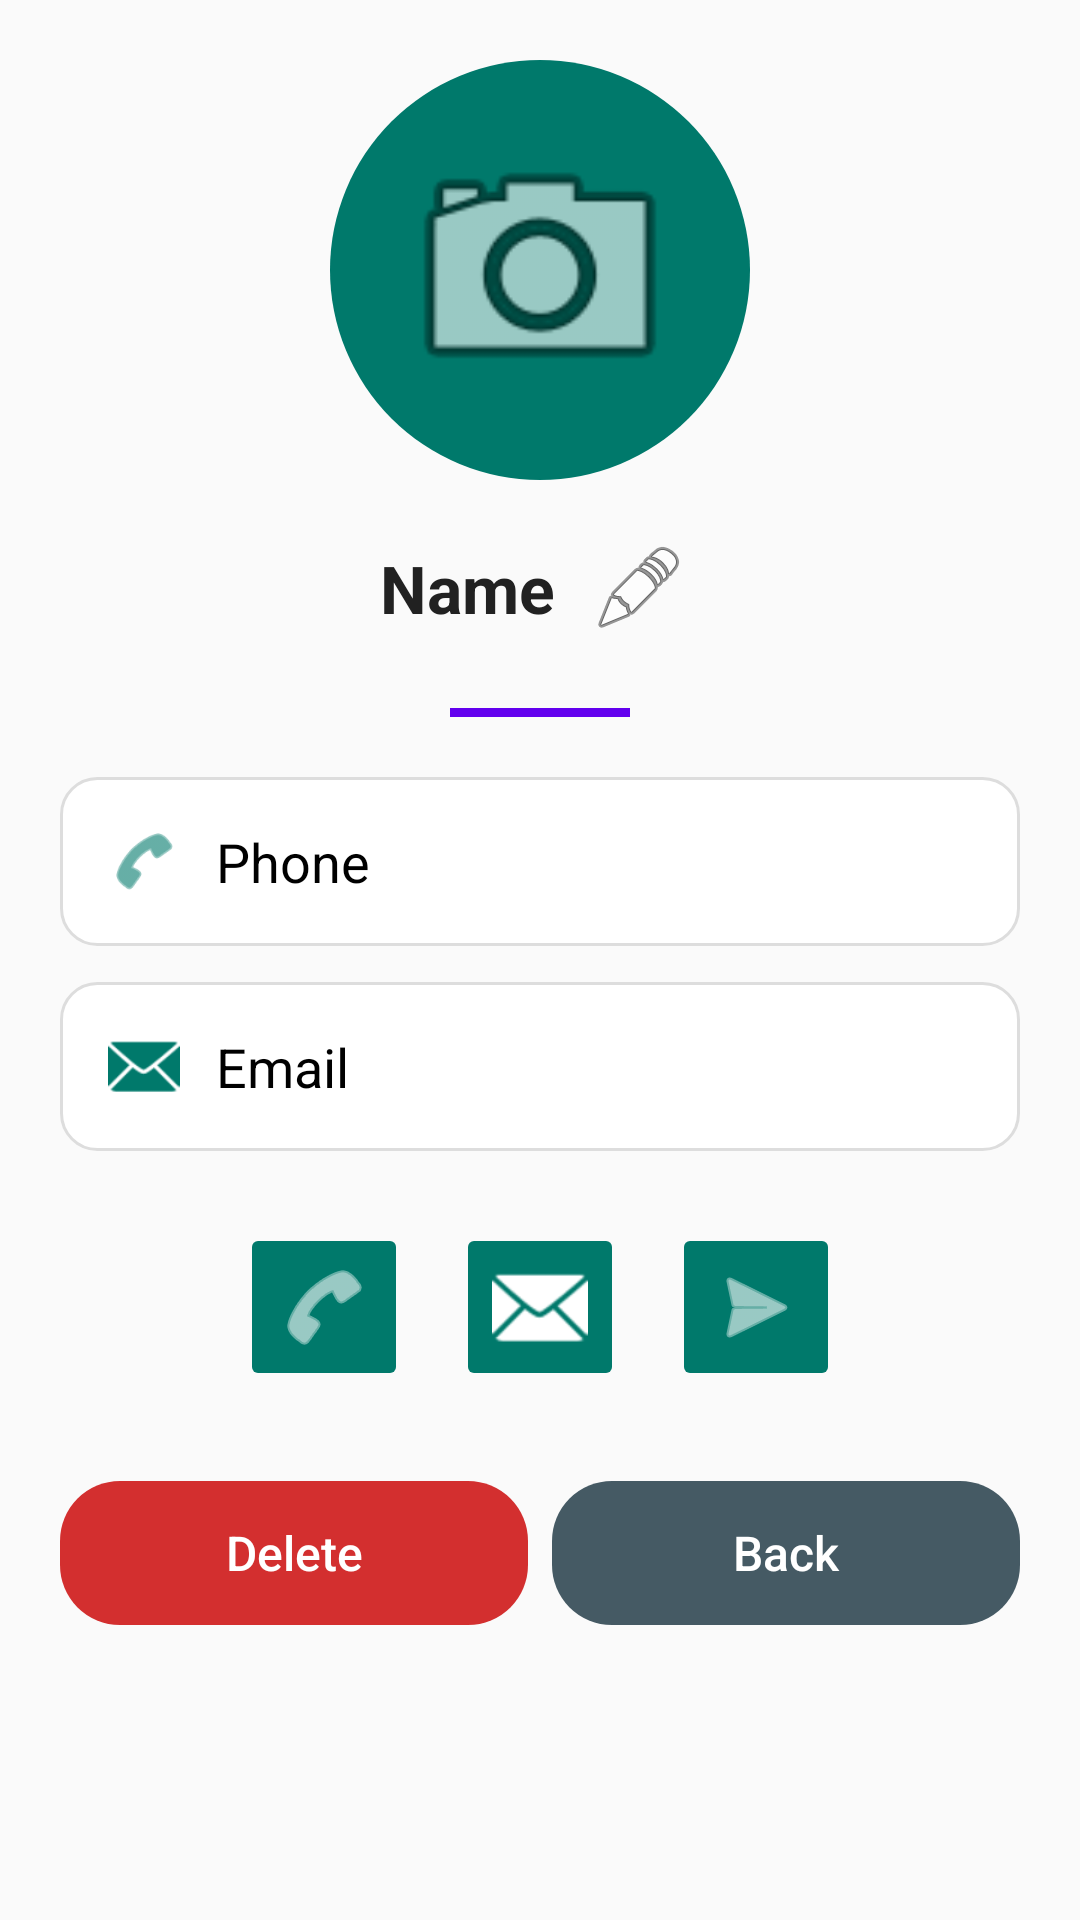

Screen size 1080px x 1920px. Icon name, then its box in pixels as (x1, y1, x2, y2):
call: (116, 833, 173, 890), (252, 1241, 396, 1373)
Edit Contact: (598, 547, 679, 628)
